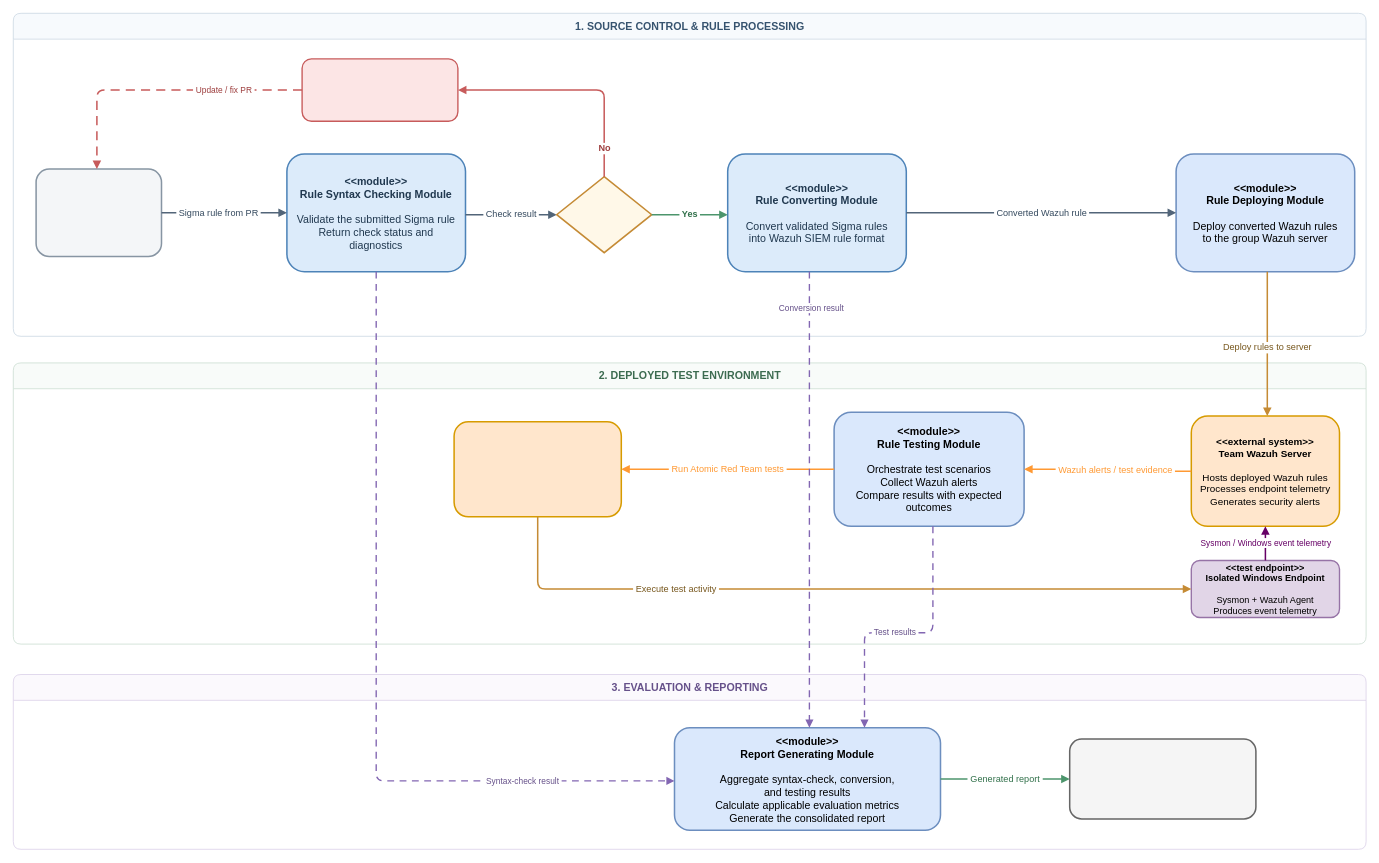
The diagram is 1379 pixels wide and 863 high, and some of its shapes have lost their labels. The shapes that lost their labels are listed below. From the top down, each one's centre as x and y in pixels, then its label:
At (379,90): "Validation Feedback Return failed checks and diagnostics to the PR".
At (98,212): "<<input>> Pull Request Sigma Rule (.yml)".
At (604,214): "All syntax checks passed?".
At (537,469): "<<external tool>> Atomic Red Team Execute controlled attack test cases".
At (1162,778): "<<output>> Main Repository Publish generated report".
